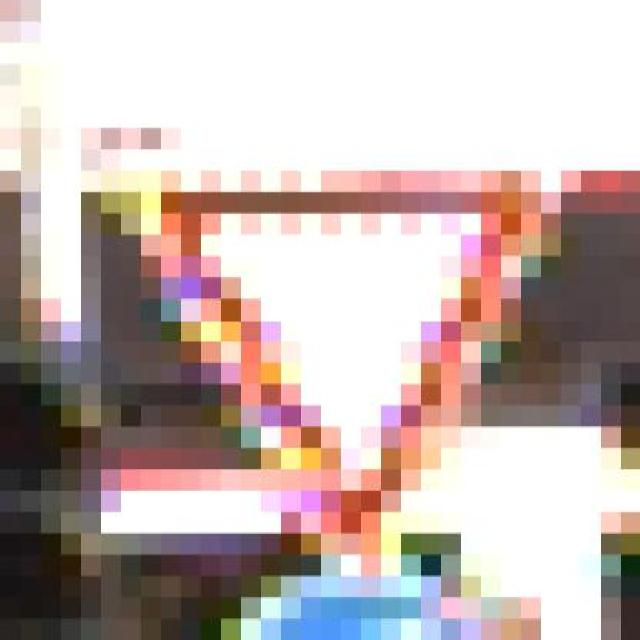Give Way: (120, 150, 580, 618)
